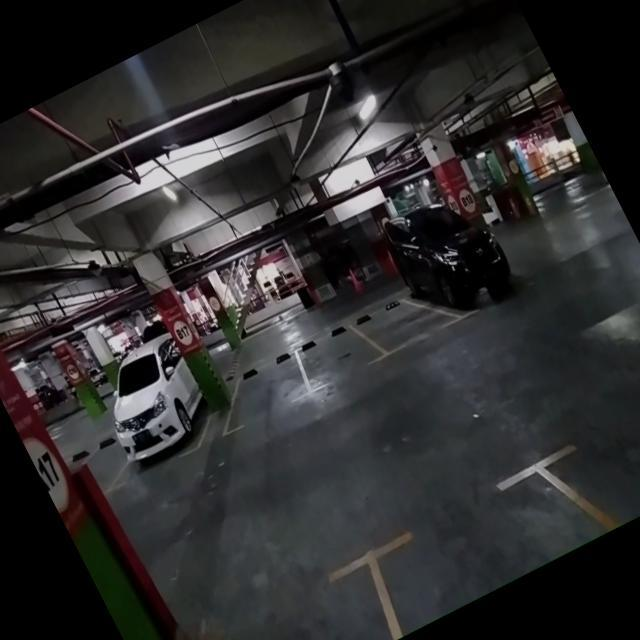empty: (207, 345, 315, 437), (288, 310, 384, 397), (356, 276, 447, 363)
occupied: (88, 340, 224, 482), (390, 203, 529, 335)
